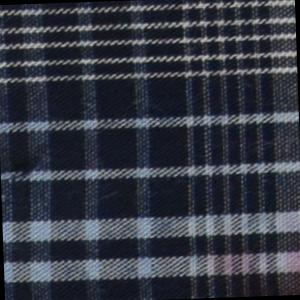Stain: (201, 235, 300, 299)
